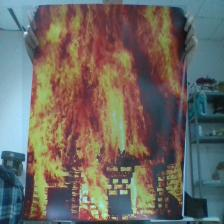fire-poster: (23, 6, 187, 221)
